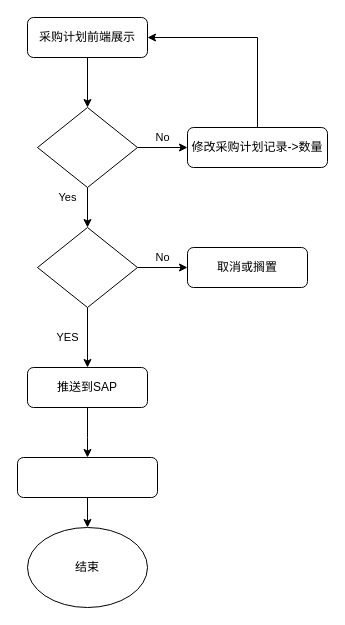
Some shapes in this 345 by 625 pixel diagram are drawn without their labels. Each missing label, with the centre of its shape:
"人工确认" belongs at point 87,267.
"修改采购计划记录->状态" belongs at point 87,477.
"数量确认" belongs at point 87,147.
